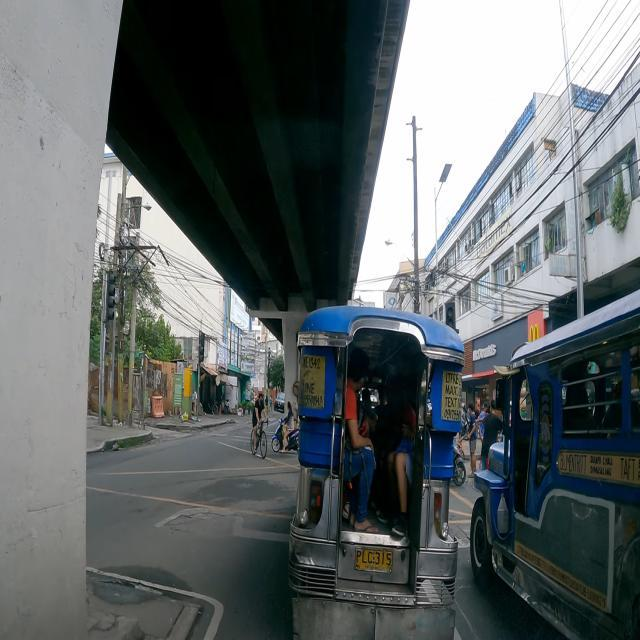bike: (250, 391, 268, 459)
jeepney: (466, 288, 640, 640), (290, 306, 466, 640)
motorcycle: (270, 400, 300, 453), (452, 437, 467, 488)
